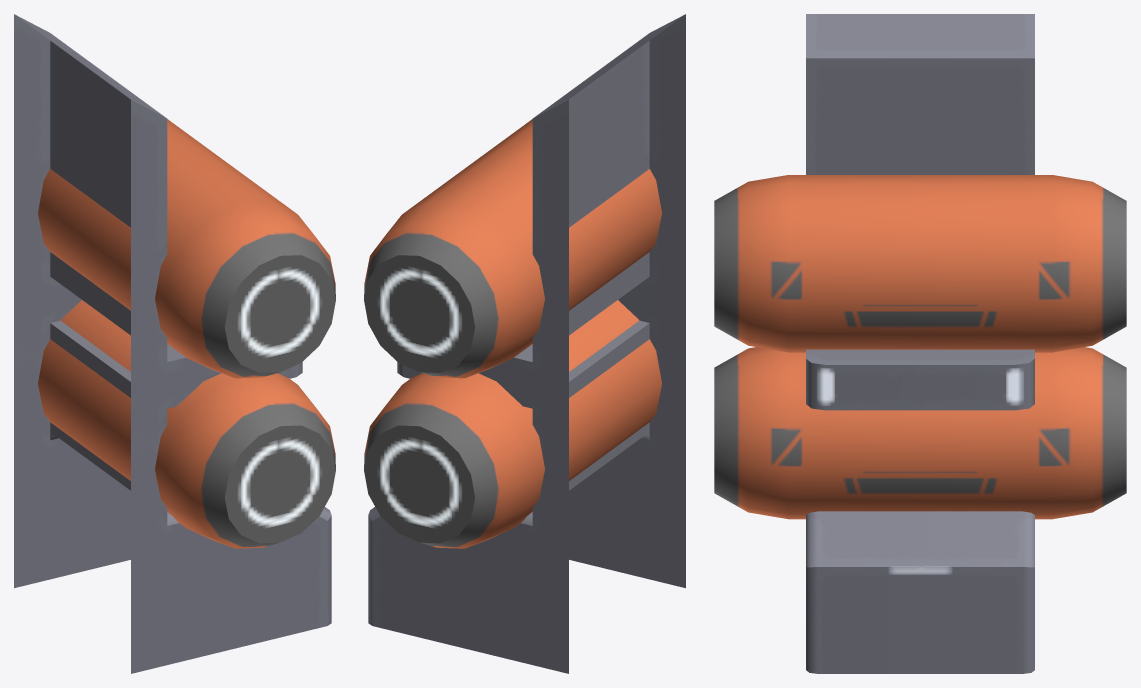
The model's file is Pfb_Soda_Instruments__2.fbx.
The picture shows the model from 3 angles, left to right: view 1: azimuth 30°, elevation 25°; view 2: azimuth 150°, elevation 25°; view 3: azimuth 270°, elevation 25°; orthographic projection. The views are drawn at different scales.
Visible parts, largest first — view 1: MAT_Soda_Instruments_Grey 6; view 2: MAT_Soda_Instruments_Grey 6; view 3: MAT_Soda_Instruments_Grey 6.
Part boxes in pixels (x1,y1,x2,y2): MAT_Soda_Instruments_Grey 6: (14, 14, 335, 673); MAT_Soda_Instruments_Grey 6: (364, 14, 685, 673); MAT_Soda_Instruments_Grey 6: (714, 14, 1126, 673).
Size of the model in its own units: 0.7056 by 1.89 by 1.26.
1 material, 1 textured.
